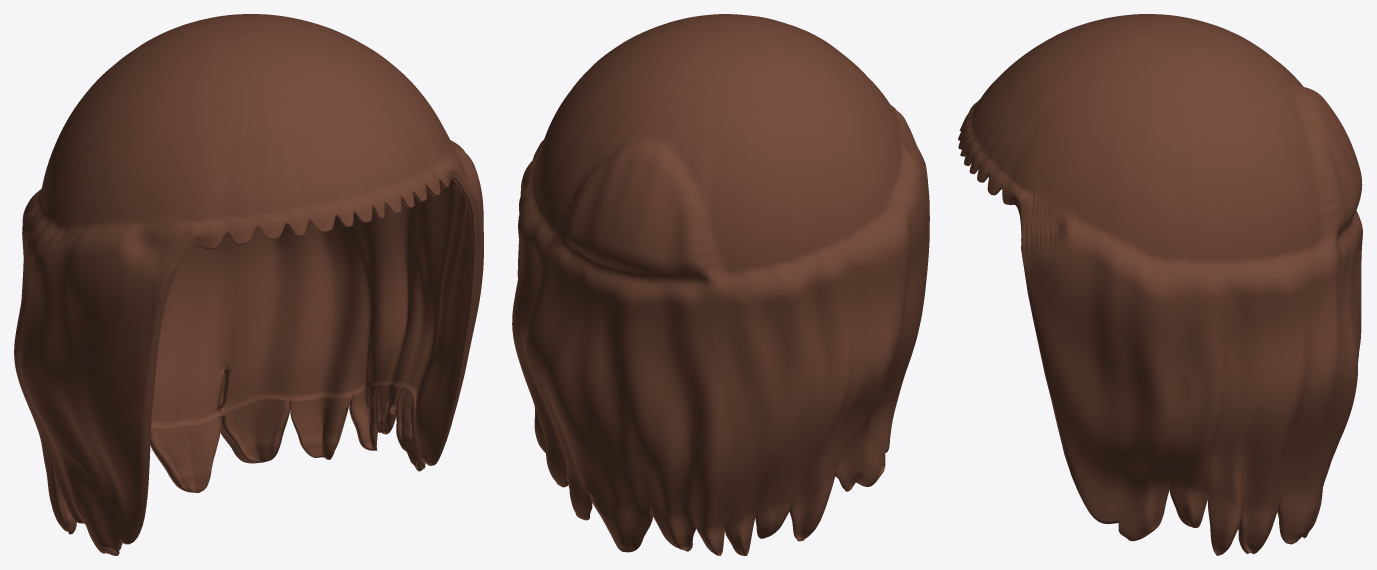
The model's file is long-cap.glb.
3 views of the same model, side by side, from view 1: azimuth 30°, elevation 25°; view 2: azimuth 150°, elevation 25°; view 3: azimuth 270°, elevation 25° (orthographic). The views are drawn at different scales.
Visible parts, largest first — view 1: Hair / rounded long fringe; view 2: Hair / rounded long fringe; view 3: Hair / rounded long fringe.
Part boxes in pixels (bbox=[...]): Hair / rounded long fringe: bbox=[14, 14, 483, 555]; Hair / rounded long fringe: bbox=[512, 14, 929, 555]; Hair / rounded long fringe: bbox=[958, 14, 1362, 555].
Size of the model in its own units: 0.8536 by 1.04 by 0.7751.
